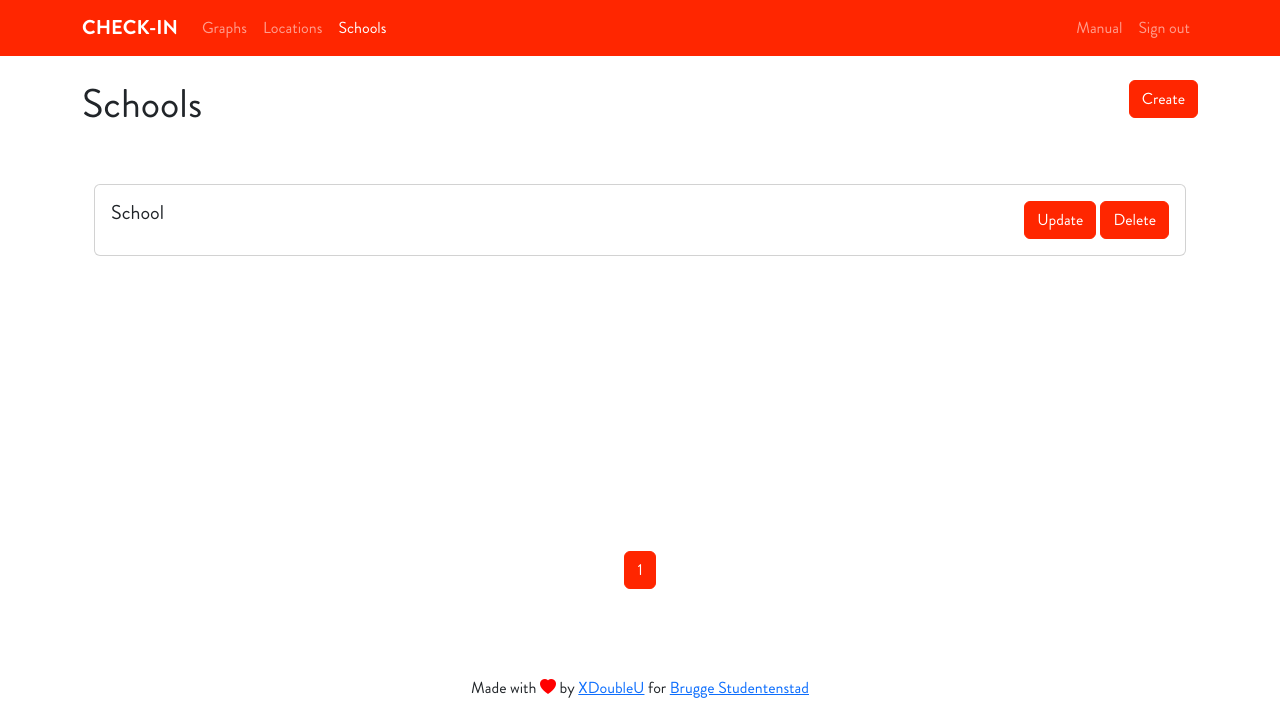
Test case: SchoolListView (page) › Updates a school, school with name already exists
The image size is (1280, 720).
Click the button "Update". click: (1060, 220)
box: [1024,201,1096,239]
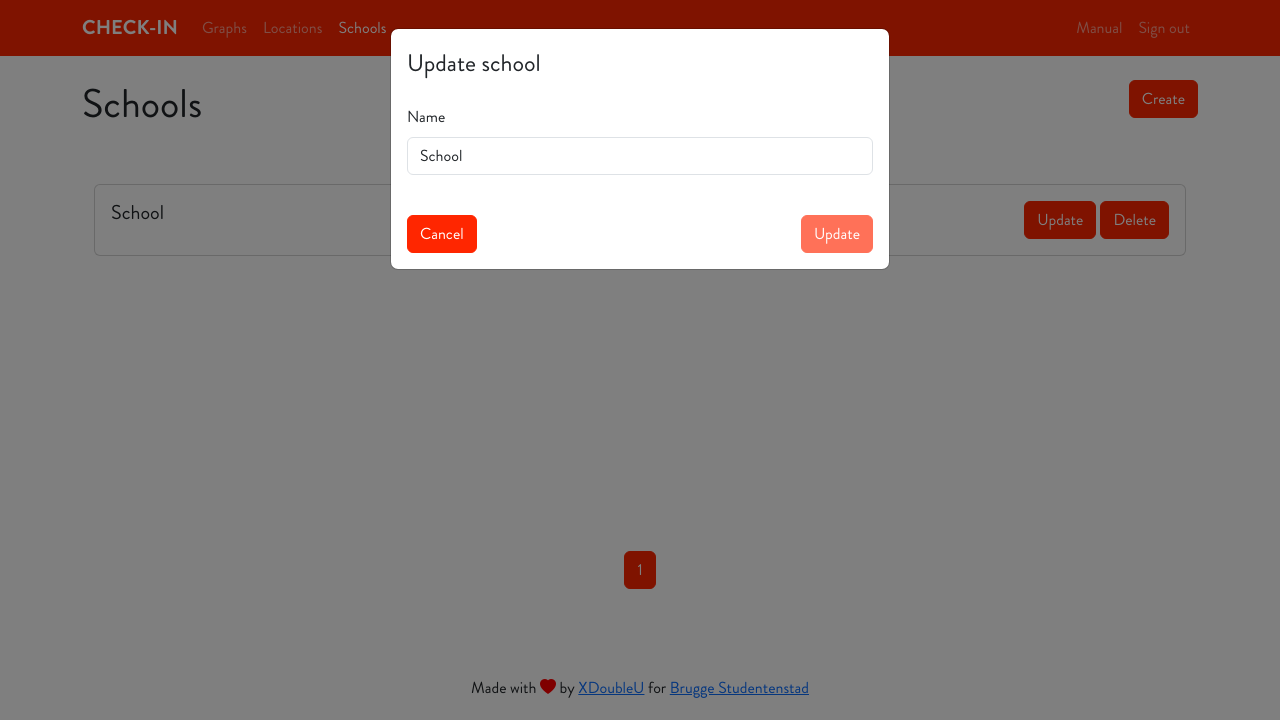
Type "newName" into the field labelled "Name". click: (640, 156)
box: [407,137,873,175]
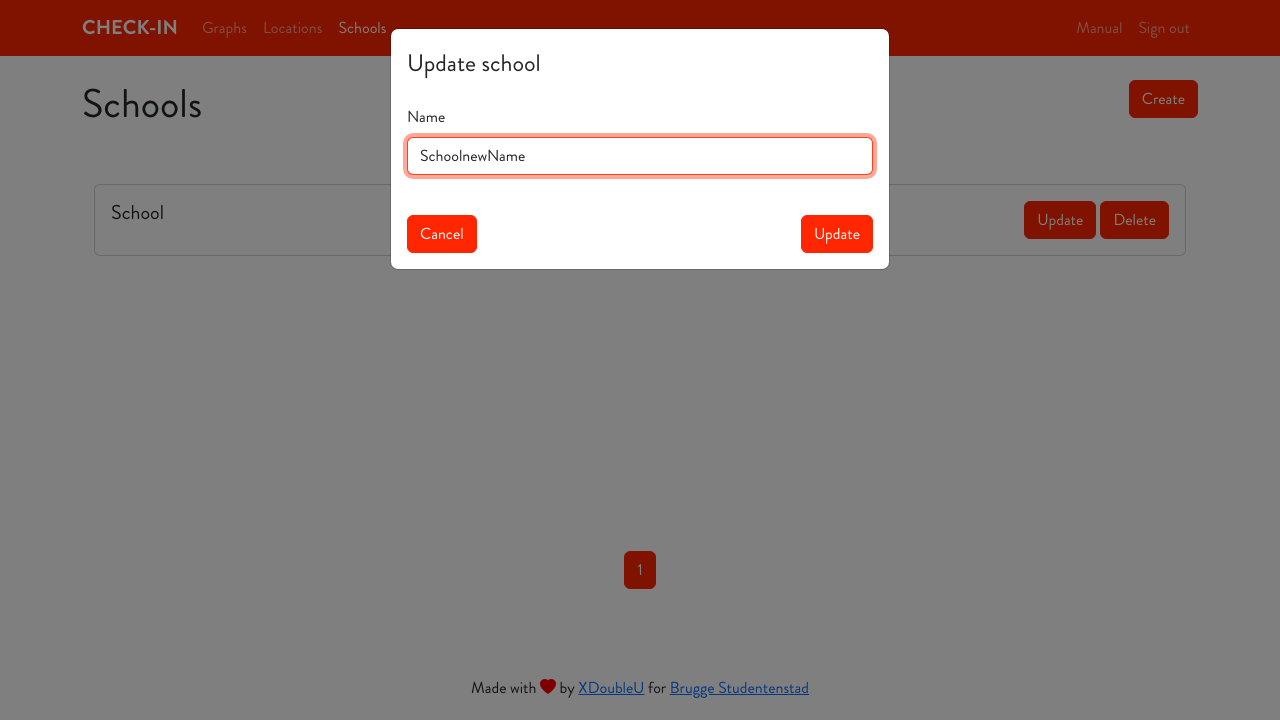
Click the button "Update". click: (837, 234)
box: [801,215,873,253]
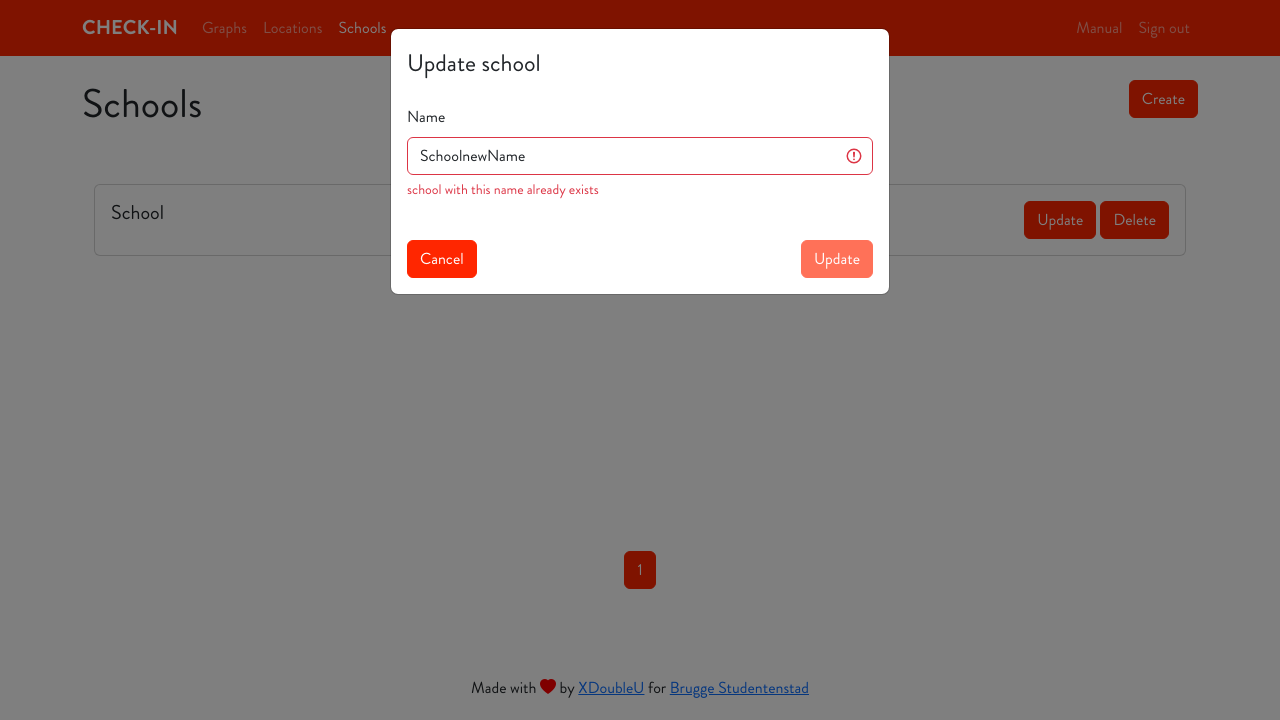
Result: the text "school with this name already exists" is shown at [407,179,599,199]
